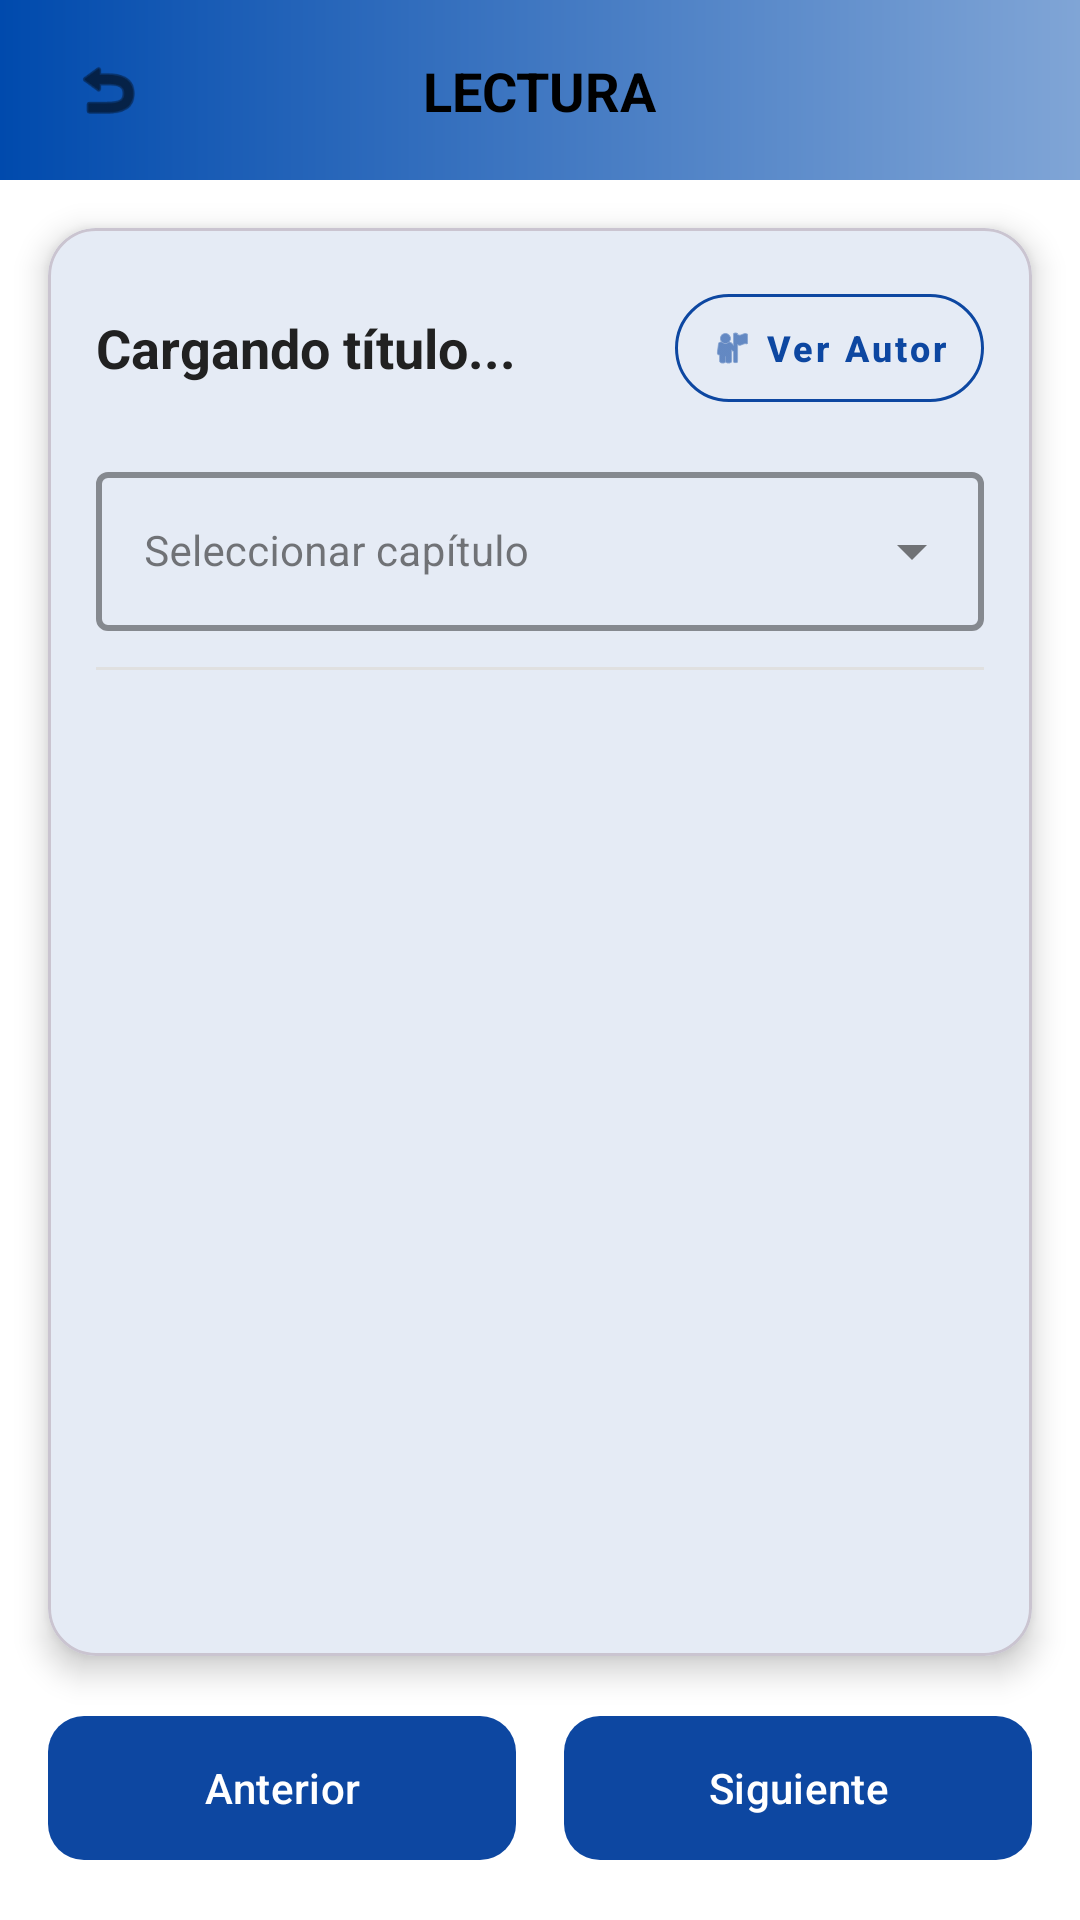

Screen size 1080 × 1920. Icon name, then its box in pixels as {"left": x1, "top": y1, "right": x2, "bottom": y2}:
Volver atrás: {"left": 83, "top": 67, "right": 135, "bottom": 114}
